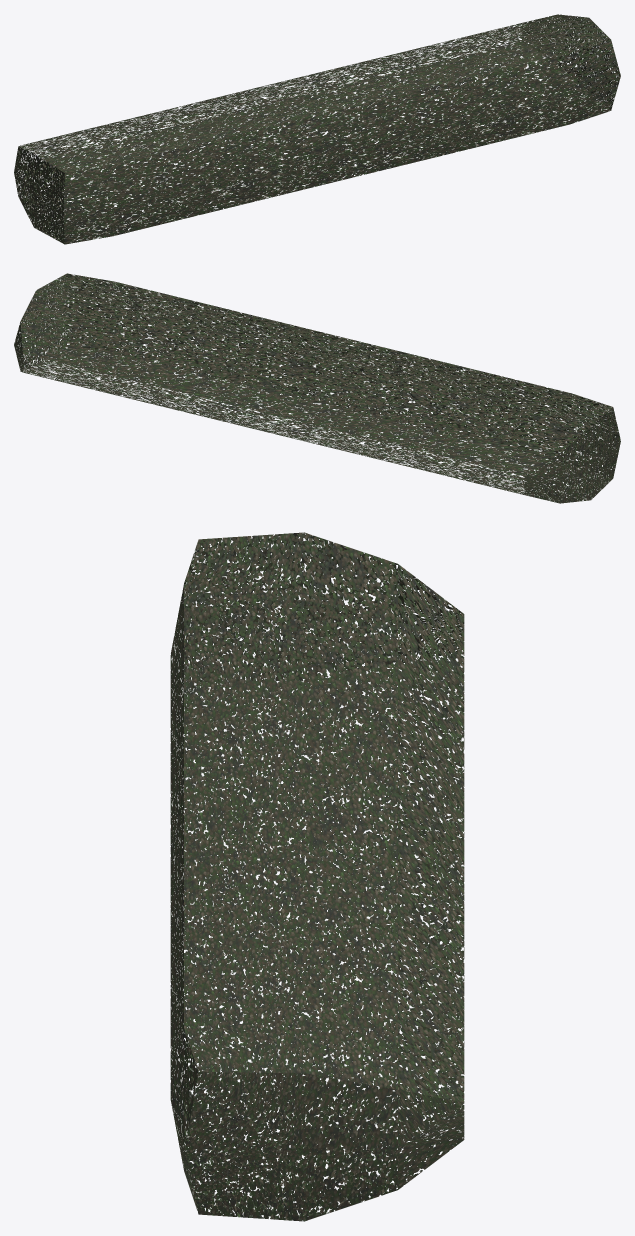
The model's file is nt_2020_foliage_hedge_boxy_3_set_LOD3.obj.
3 renders of one model, top to bottom at view 1: azimuth 30°, elevation 25°; view 2: azimuth 150°, elevation 25°; view 3: azimuth 270°, elevation 25°, orthographic. The views are drawn at different scales.
Parts seen in each view (by area): view 1: mtl_p6_foliage_hedge_no_alpha; view 2: mtl_p6_foliage_hedge_no_alpha; view 3: mtl_p6_foliage_hedge_no_alpha.
Boxes of the visible parts, x1,y1,x2,y2 form: mtl_p6_foliage_hedge_no_alpha: (14, 14, 620, 244); mtl_p6_foliage_hedge_no_alpha: (14, 273, 620, 503); mtl_p6_foliage_hedge_no_alpha: (170, 532, 464, 1221).
Size of the model in its own units: 1024 by 131 by 234.
